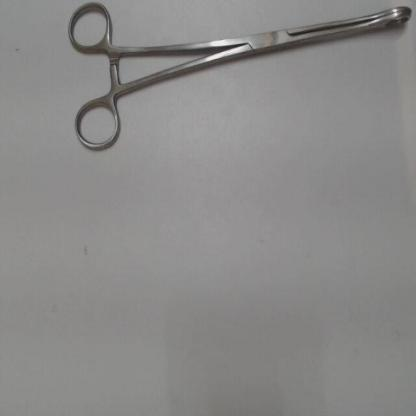Sponge Forceps: (60, 1, 415, 161)
